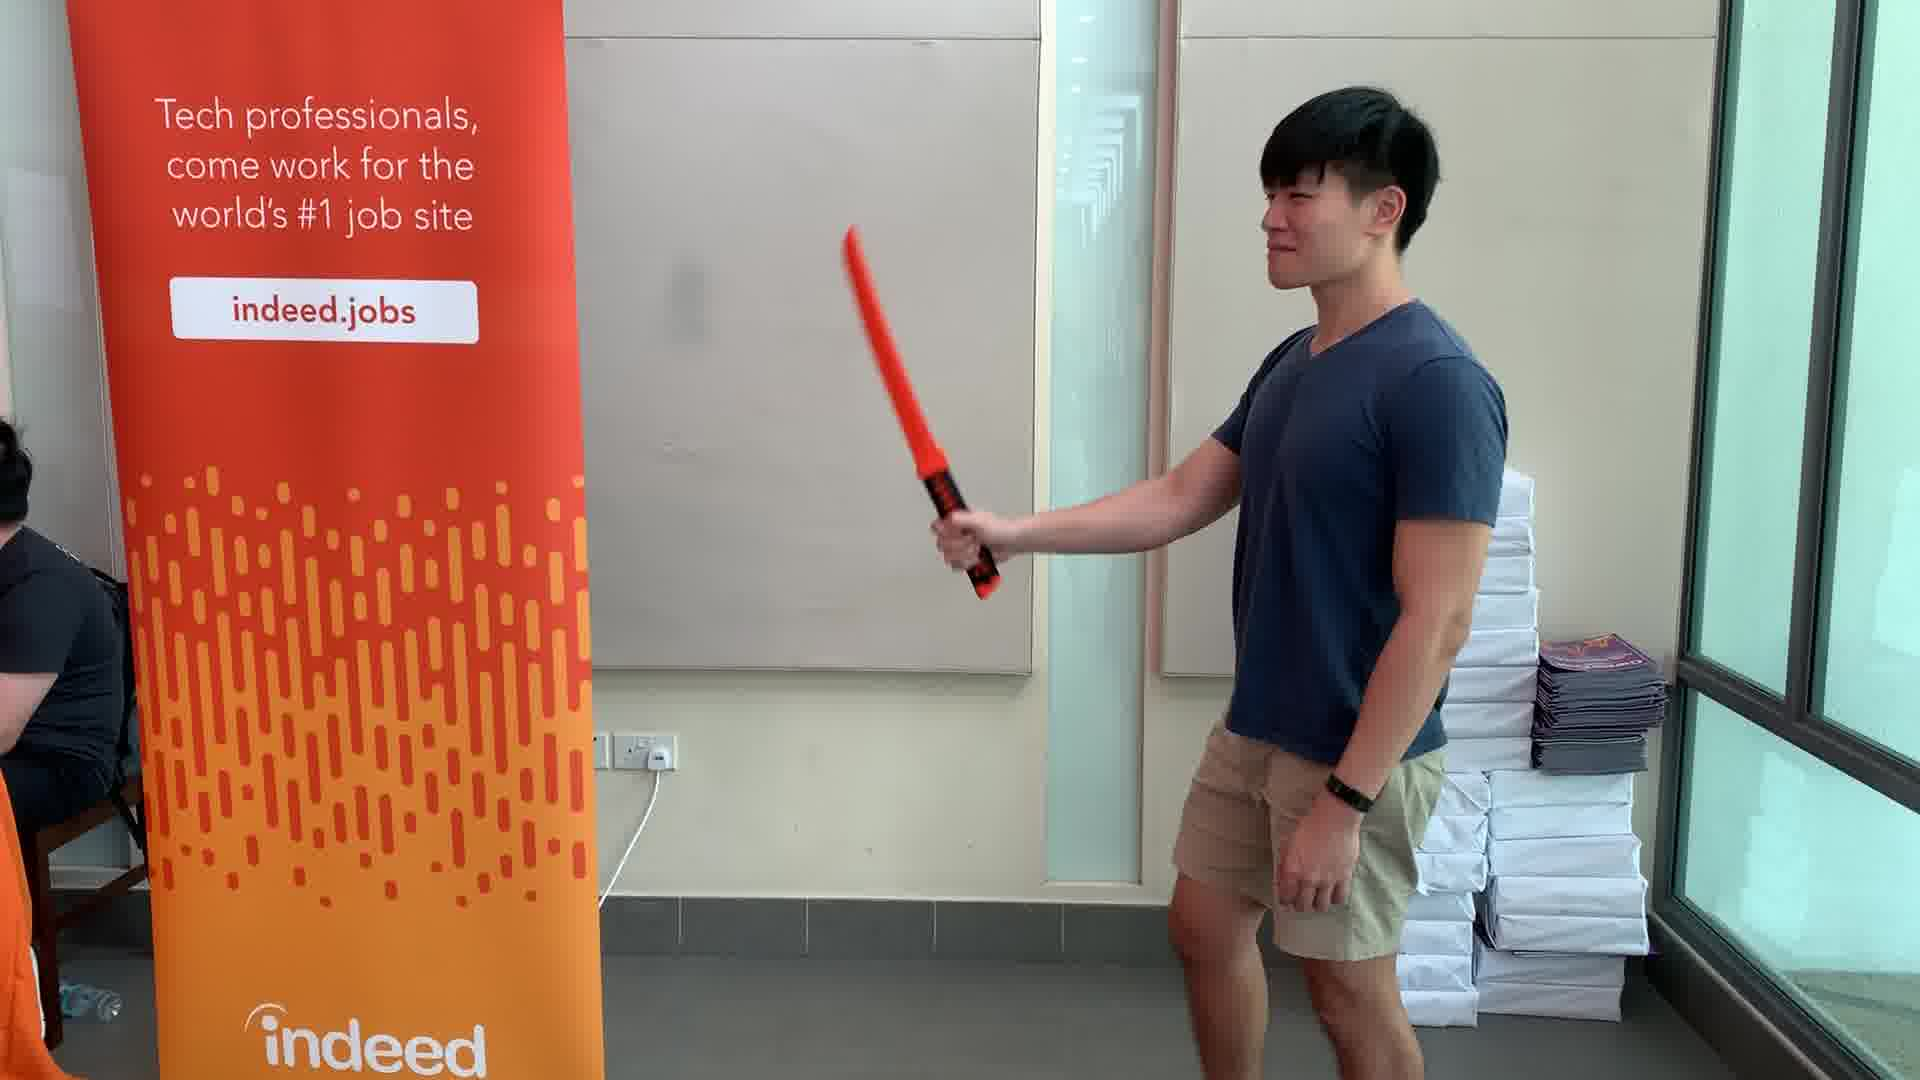knife: (831, 216, 1018, 613)
